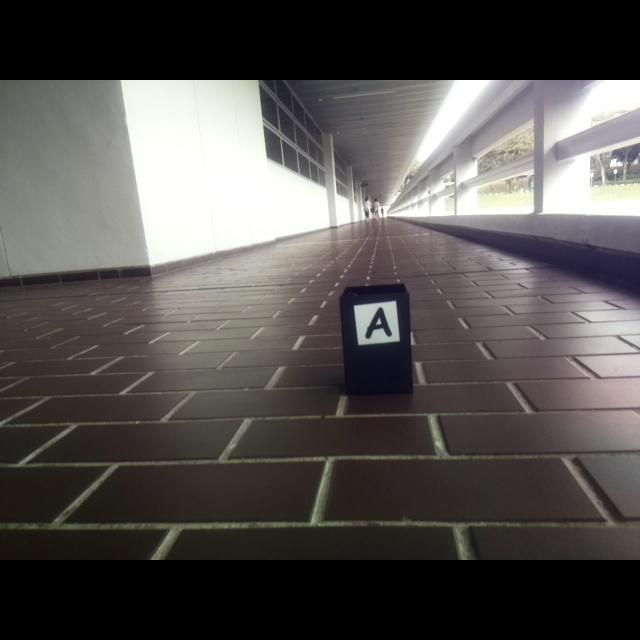A: (365, 307, 392, 339)
